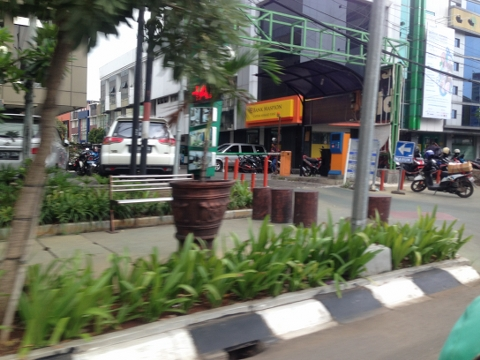mobil: (100, 116, 178, 171), (216, 142, 268, 172)
